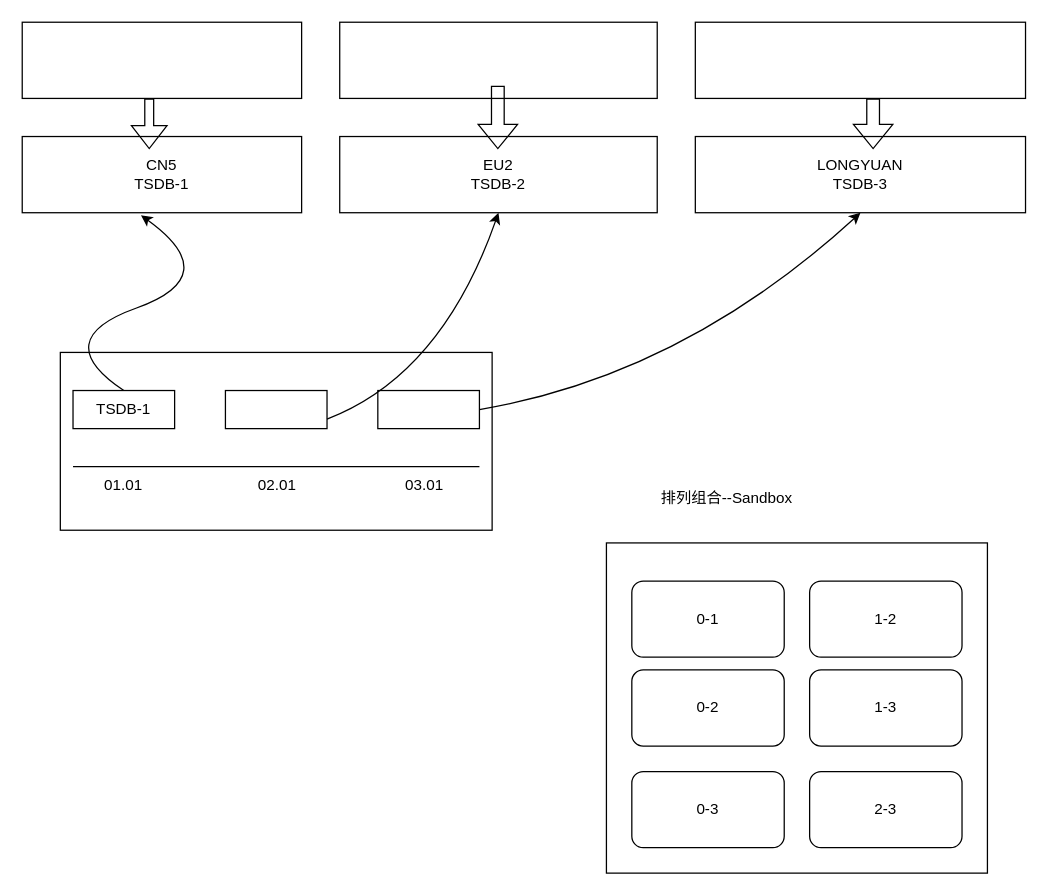
Some shapes in this 1048 by 895 pixel diagram are drawn without their labels. Each missing label, with the centre of its shape:
"CN5 TSDB-0" goes at point (161, 59).
"EU2 TSDB-0" goes at point (497, 59).
"LONGYUAN TSDB-0" goes at point (860, 59).
"TSDB-2" goes at point (275, 409).
"TSDB-3" goes at point (428, 409).
